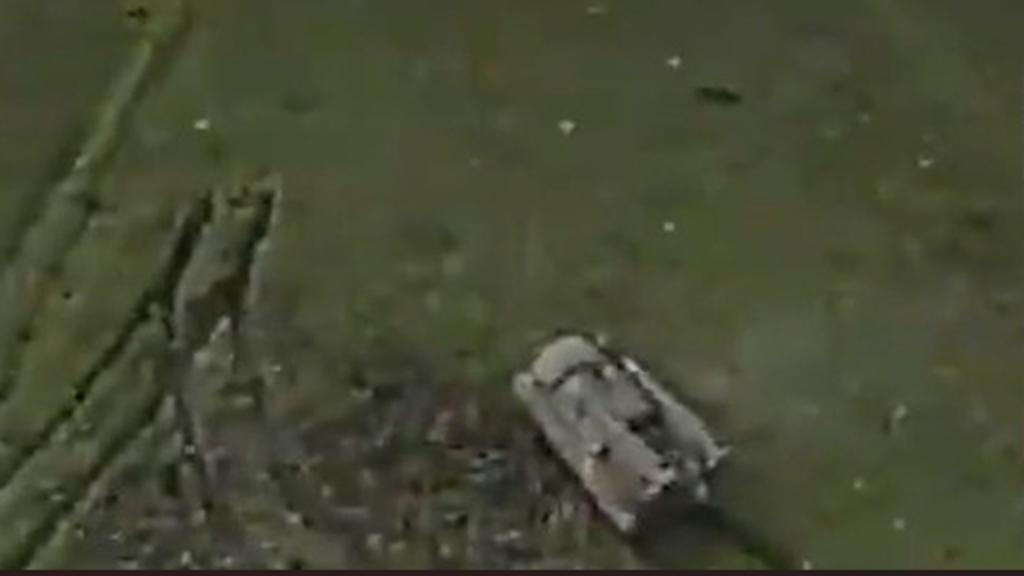MLRS: (486, 312, 728, 528)
